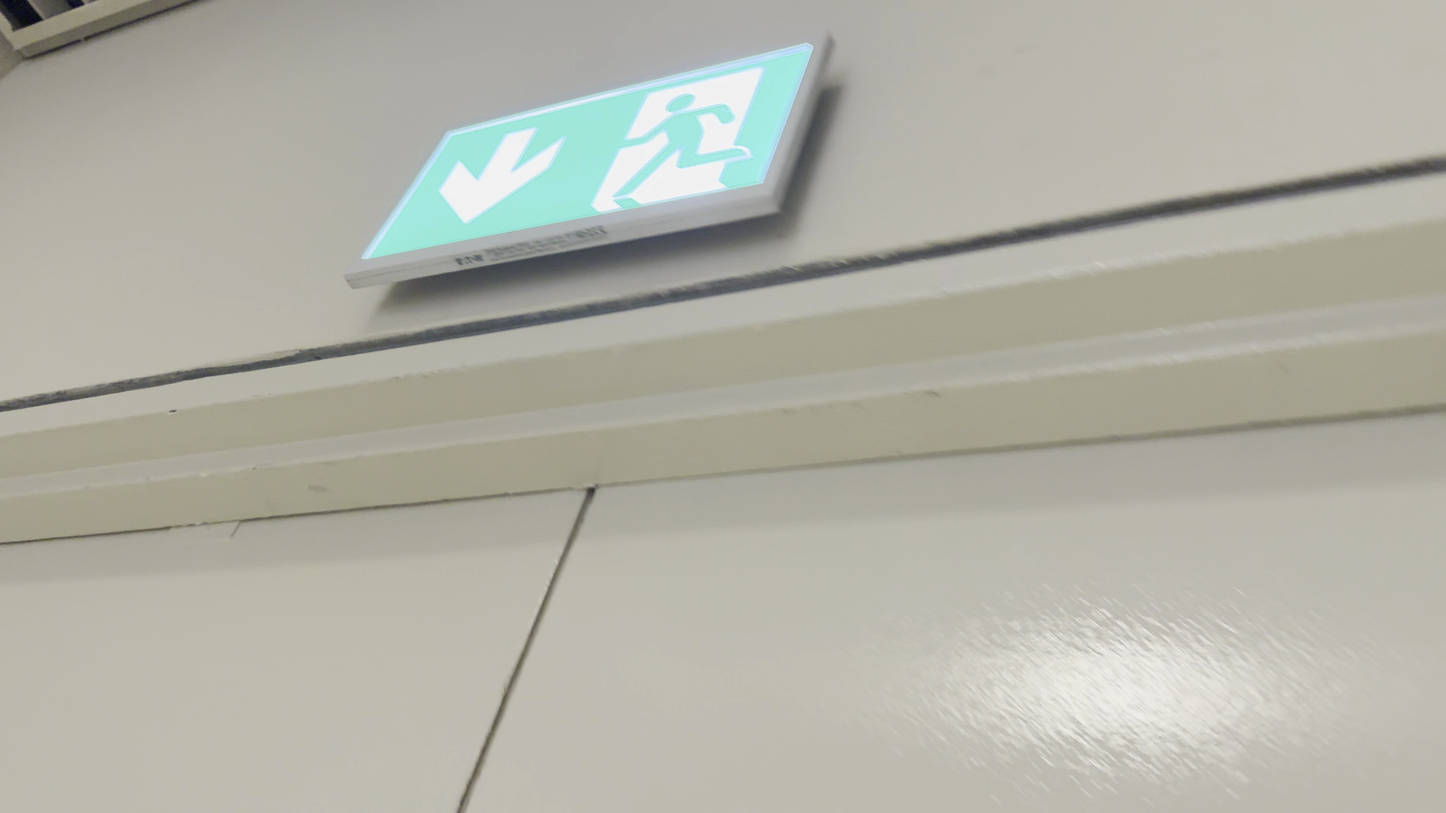emergency_exit: (343, 36, 828, 290)
